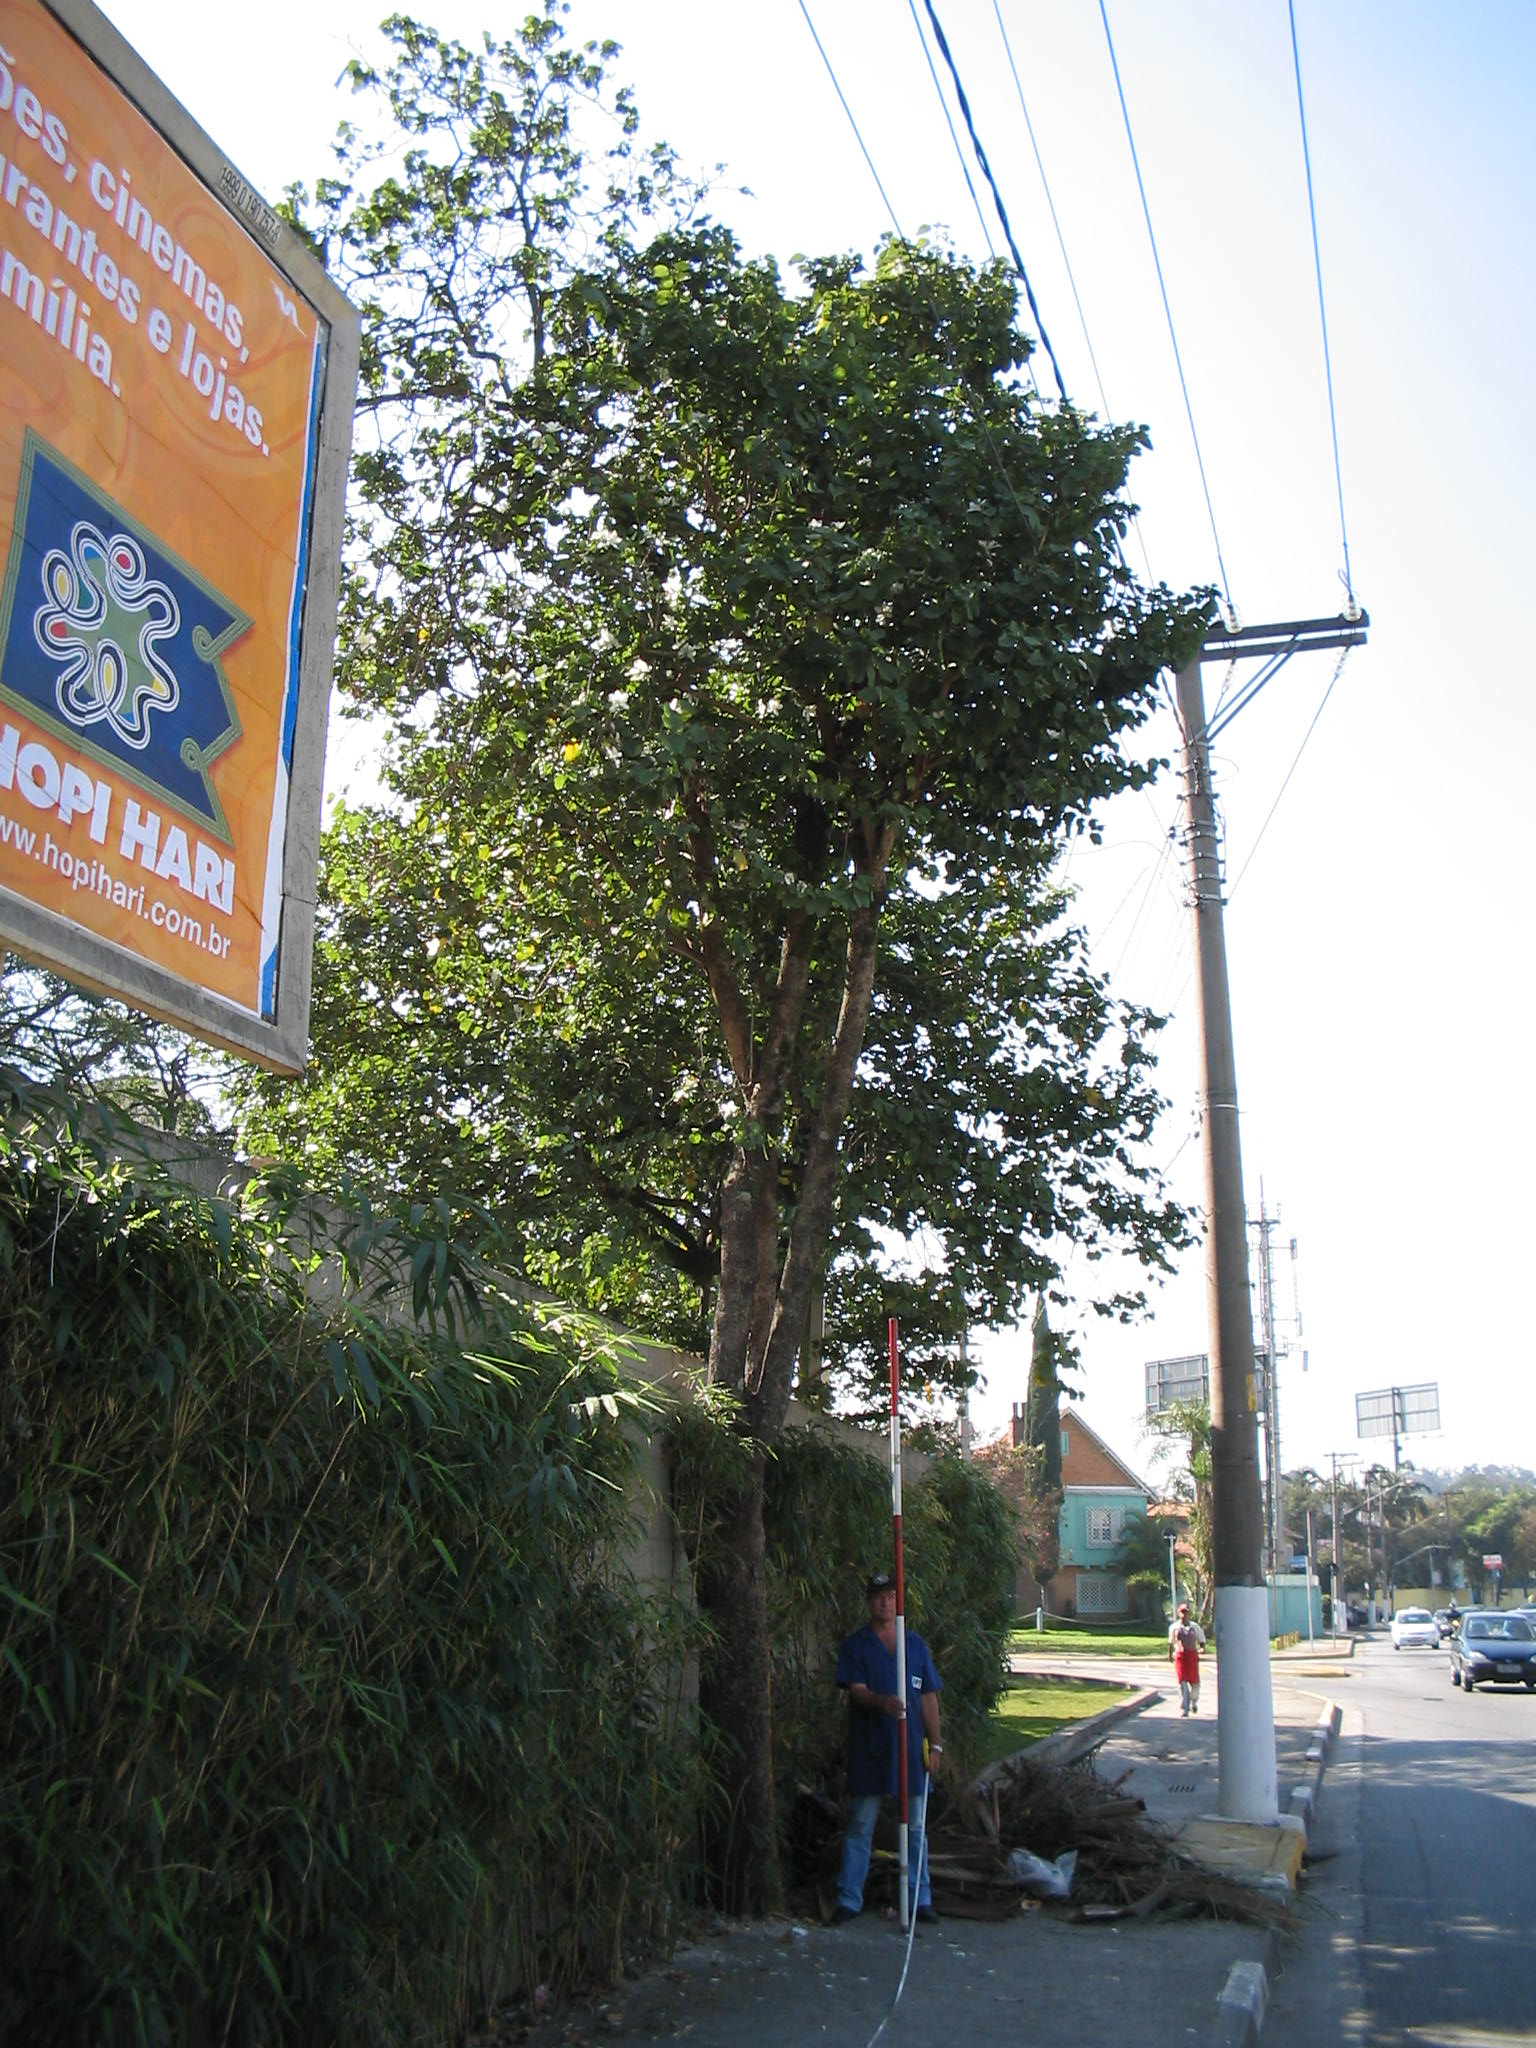crown: (389, 237, 1223, 1084)
stem: (660, 1392, 836, 1917)
stick: (876, 1311, 931, 1934)
tree: (374, 226, 1228, 1921)
